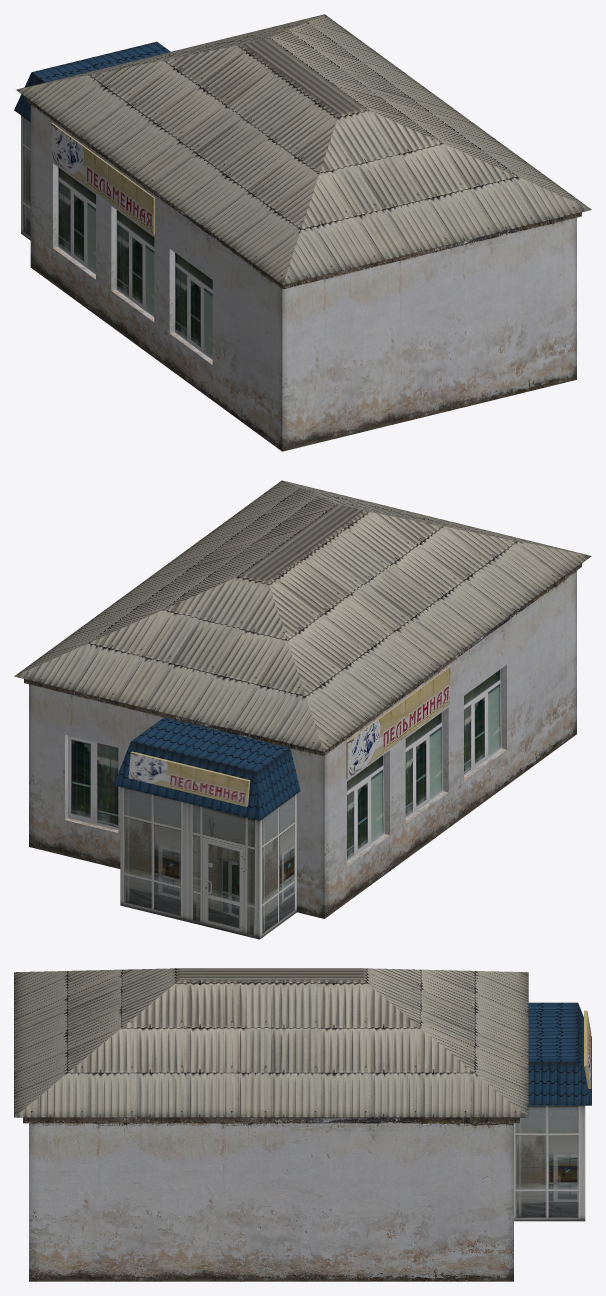
File: r402_ishim_pelmennaya.FBX
The picture shows the model from 3 angles, top to bottom: view 1: azimuth 30°, elevation 25°; view 2: azimuth 150°, elevation 25°; view 3: azimuth 270°, elevation 25°; orthographic projection. The views are drawn at different scales.
Visible parts, largest first — view 1: r402_ishim_pelmennaya; view 2: r402_ishim_pelmennaya; view 3: r402_ishim_pelmennaya.
Part boxes in pixels (x1,y1,x2,y2): r402_ishim_pelmennaya: (14,14,591,451); r402_ishim_pelmennaya: (14,480,591,939); r402_ishim_pelmennaya: (14,968,591,1281).
Size of the model in its own units: 744 by 1250 by 569.
